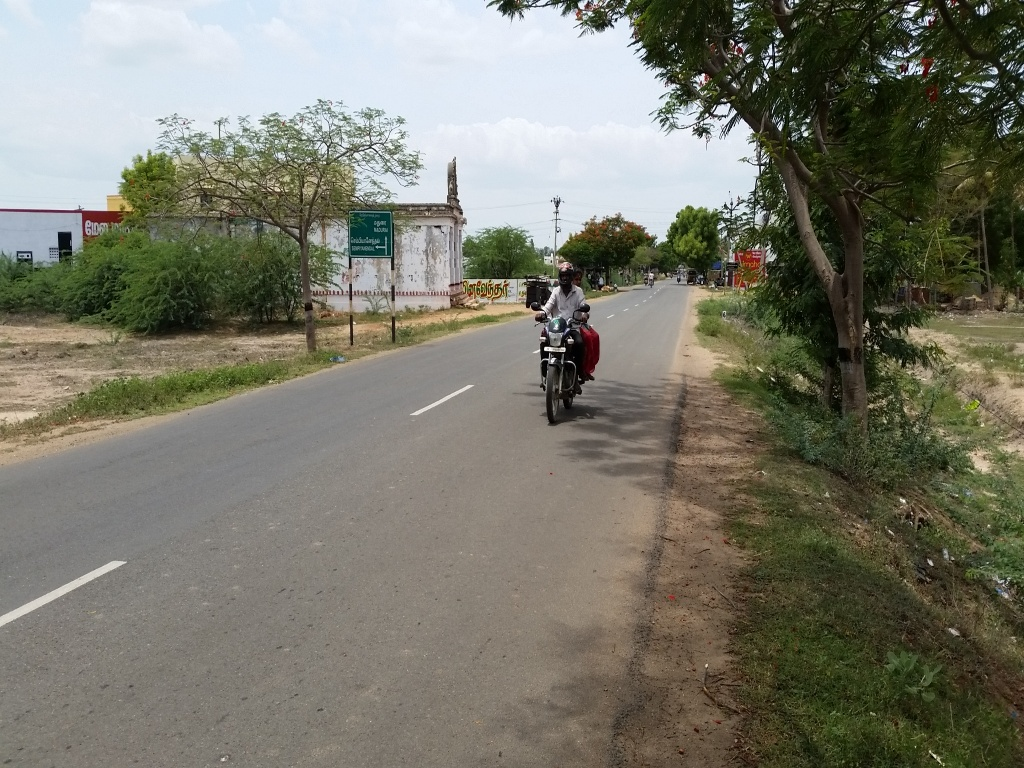biker: (515, 239, 623, 433)
helmet: (547, 255, 583, 301)
